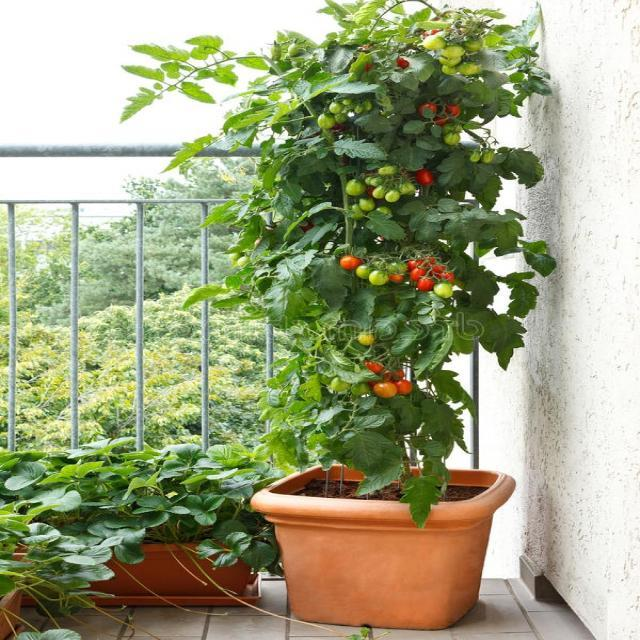plant: (0, 439, 284, 573), (0, 502, 113, 617)
tomato: (128, 0, 556, 527)
